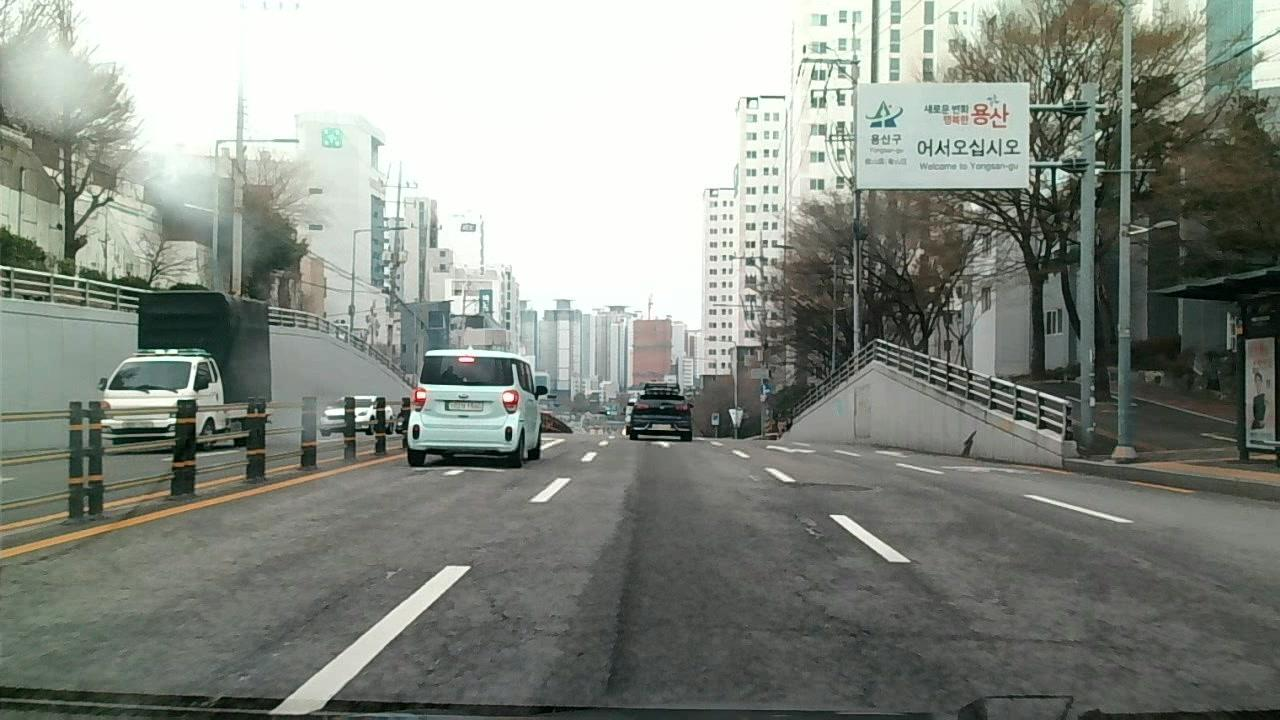erosion: (377, 509, 570, 712)
hcrack: (642, 616, 1131, 649)
vcrack: (210, 571, 372, 684), (594, 523, 637, 695), (785, 508, 845, 564), (787, 570, 833, 610)
